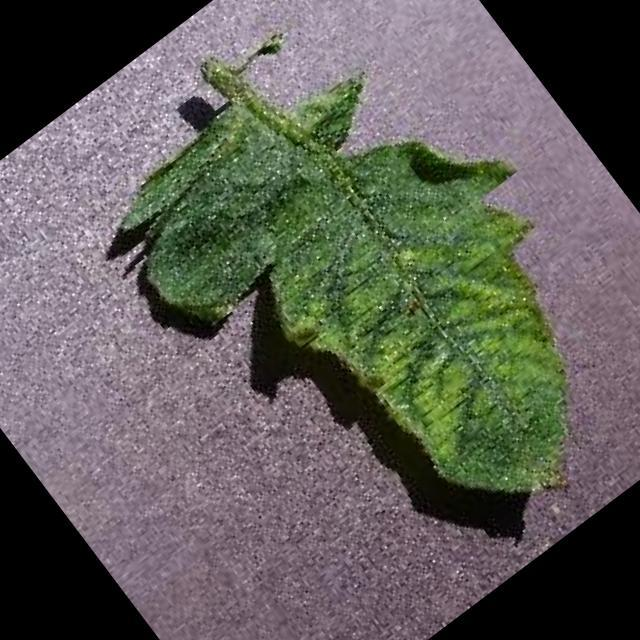Tomato mosaic virus leaf: (88, 0, 640, 616)
